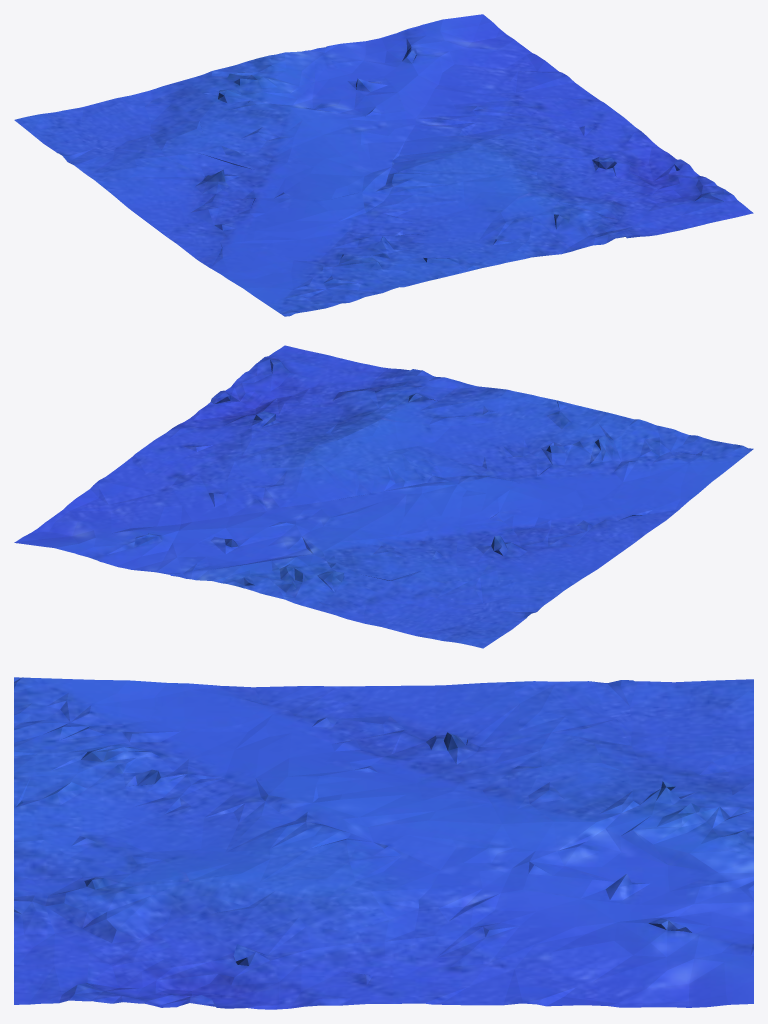
3 views of the same model, one above another, from view 1: azimuth 30°, elevation 25°; view 2: azimuth 150°, elevation 25°; view 3: azimuth 270°, elevation 25° (orthographic). The views are drawn at different scales.
Bounding box in the file's own units: 13.06 × 0.6979 × 13.06.
Materials: 2 (2 with a texture image).
